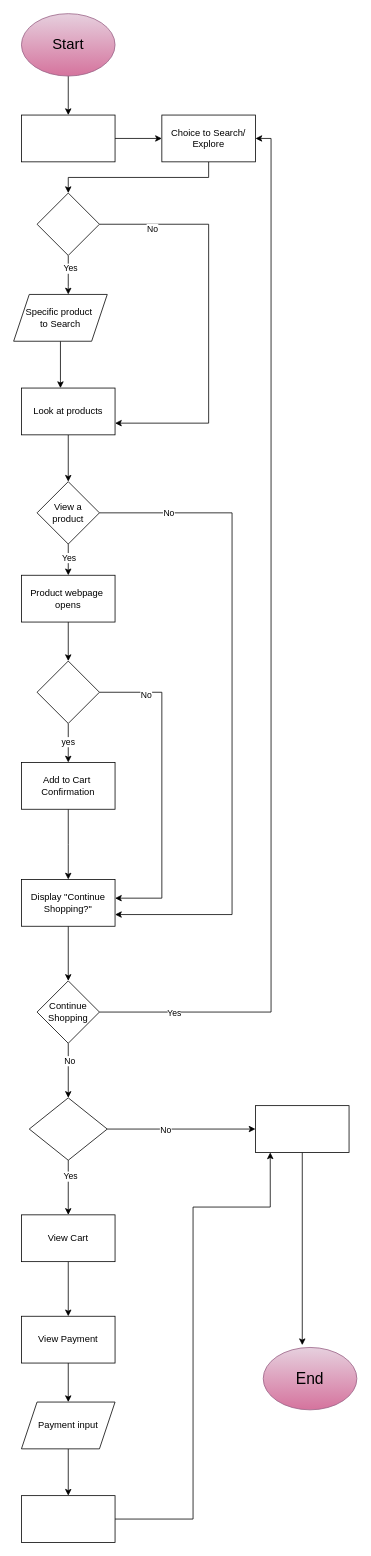
This 371x1556 diagram has some shape labels left out. Here are the shapes that lost their labels. From the top down, the centre of each, then its label:
(68,138): User enters website
(67,223): Search
(67,691): Add to Cart
(67,1128): Checkout
(302,1128): Leave website
(68,1518): Order Confirmation + Recieve email
